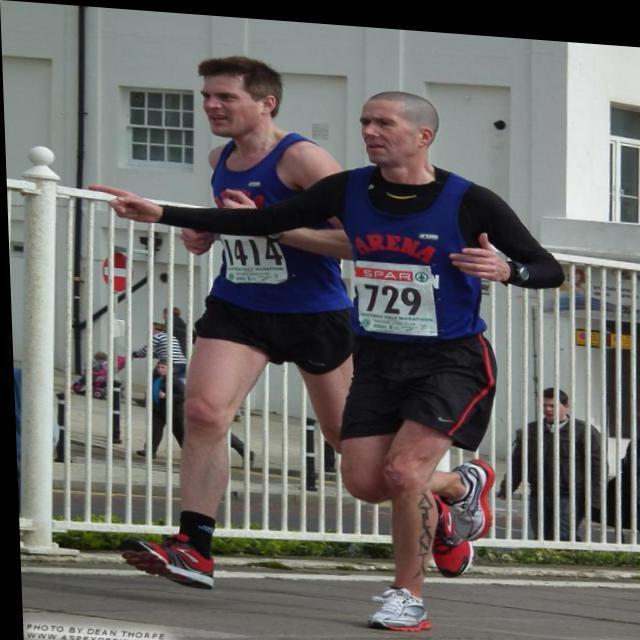dorsal: (344, 250, 442, 335), (211, 218, 294, 285)
